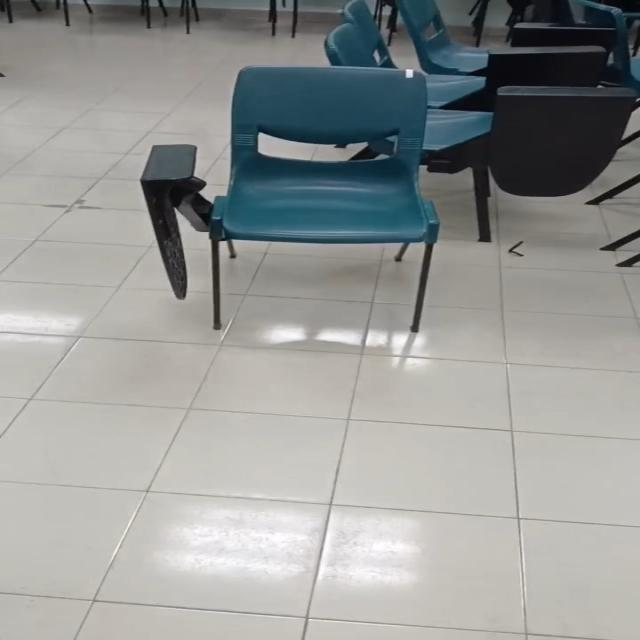sandalye: (211, 67, 439, 333)
